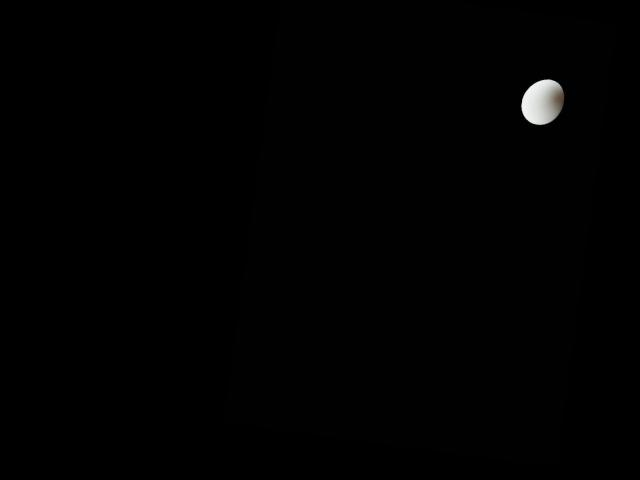egg: (519, 75, 566, 127)
